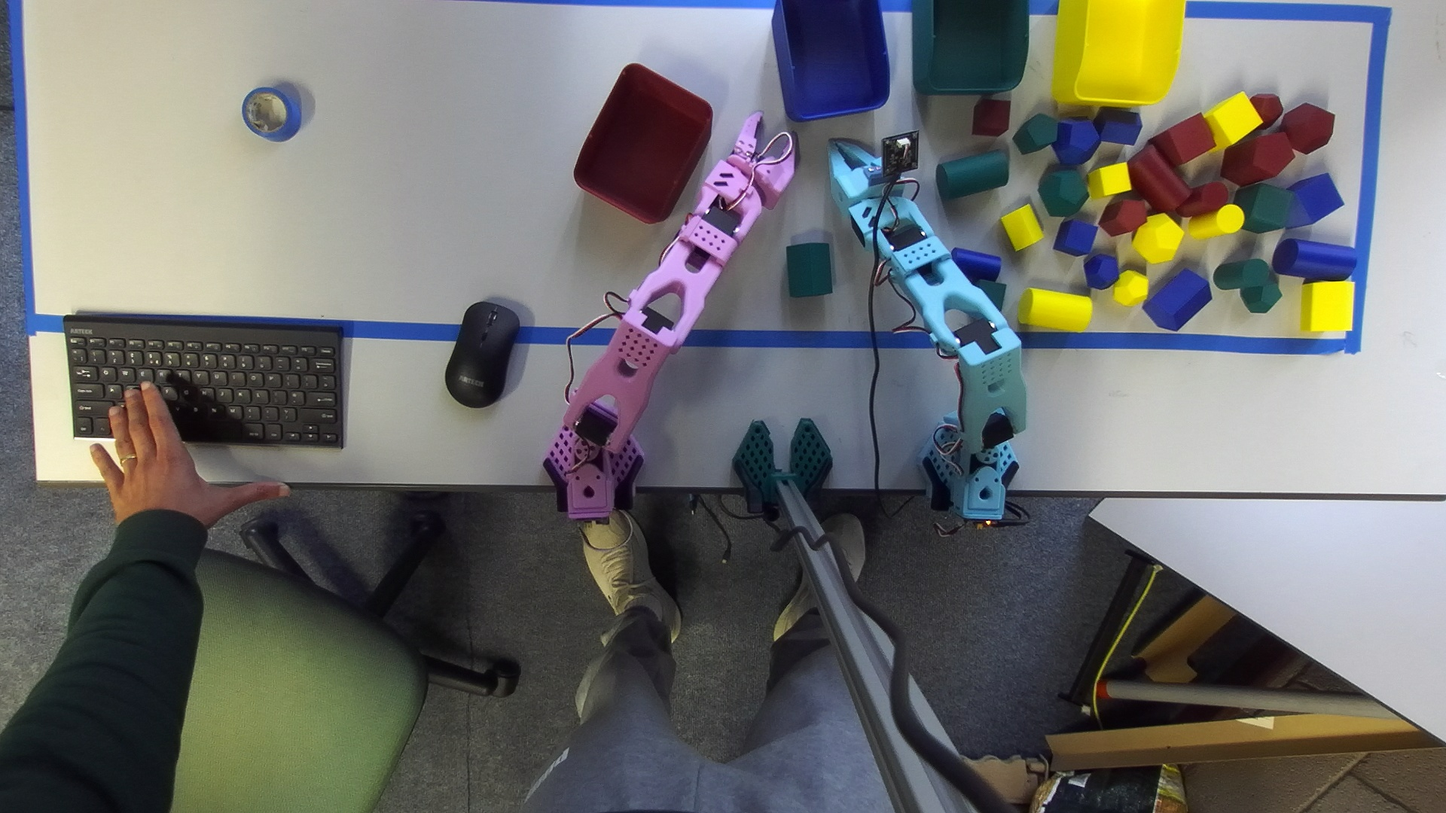bin: (573, 63, 712, 223), (1051, 0, 1185, 106), (772, 0, 889, 120), (912, 0, 1028, 94)
cube: (1150, 114, 1215, 166), (1203, 93, 1261, 148), (1286, 173, 1343, 228), (1234, 183, 1293, 233), (1300, 281, 1354, 331), (1053, 219, 1097, 256), (972, 96, 1011, 136), (1088, 163, 1131, 198), (975, 279, 1006, 312)
cylinder: (1128, 141, 1190, 212), (1271, 238, 1356, 282), (936, 150, 1008, 201), (1017, 288, 1091, 331), (1188, 204, 1244, 239), (1177, 181, 1228, 217), (951, 247, 1001, 283), (1213, 258, 1271, 289)
dodecahedron: (1282, 103, 1334, 154), (1132, 213, 1183, 263), (1038, 168, 1088, 217), (1051, 119, 1100, 166), (1240, 274, 1281, 313), (1112, 270, 1148, 306), (1083, 254, 1120, 289), (1249, 94, 1283, 126)
gripper: (726, 112, 796, 209), (828, 139, 883, 212)
hexagonal: (1142, 269, 1211, 330), (1221, 133, 1293, 186), (786, 242, 832, 297), (1000, 202, 1043, 250), (1092, 107, 1142, 145), (1099, 199, 1148, 236), (1013, 114, 1057, 154)
